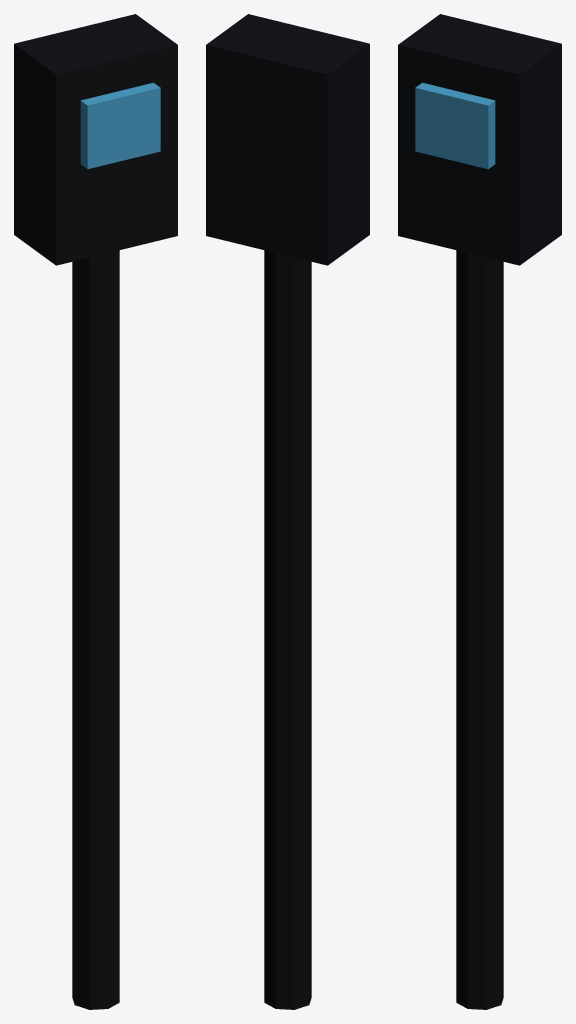
Rendered from parking_meter.obj.
3 views of the same model, side by side, from view 1: azimuth 30°, elevation 25°; view 2: azimuth 150°, elevation 25°; view 3: azimuth 330°, elevation 25° (orthographic).
Visible parts, largest first — view 1: parking_meter; view 2: parking_meter; view 3: parking_meter.
Boxes of the visible parts, x1,y1,x2,y2 form: parking_meter: (14,14,177,1009); parking_meter: (206,14,369,1009); parking_meter: (398,14,561,1009).
Bounding box in the file's own units: 0.2 × 1.5 × 0.14.
